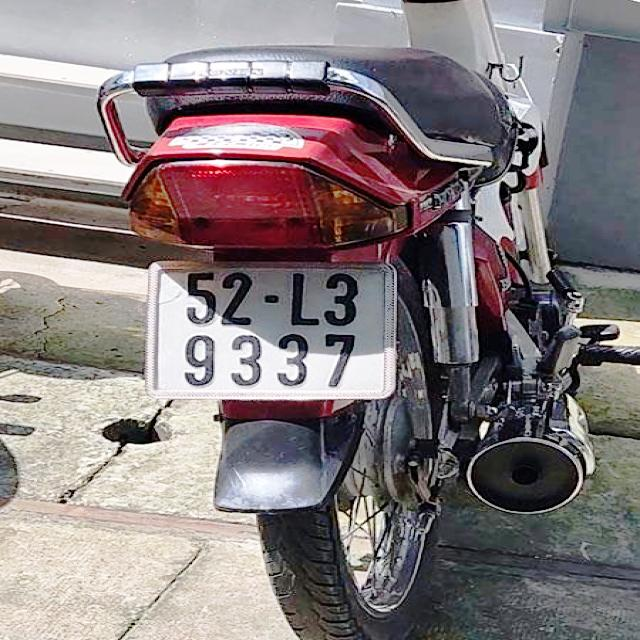license_plate: (148, 265, 388, 392)
